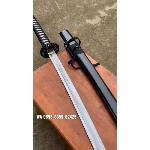Pedang: (34, 13, 104, 150)
